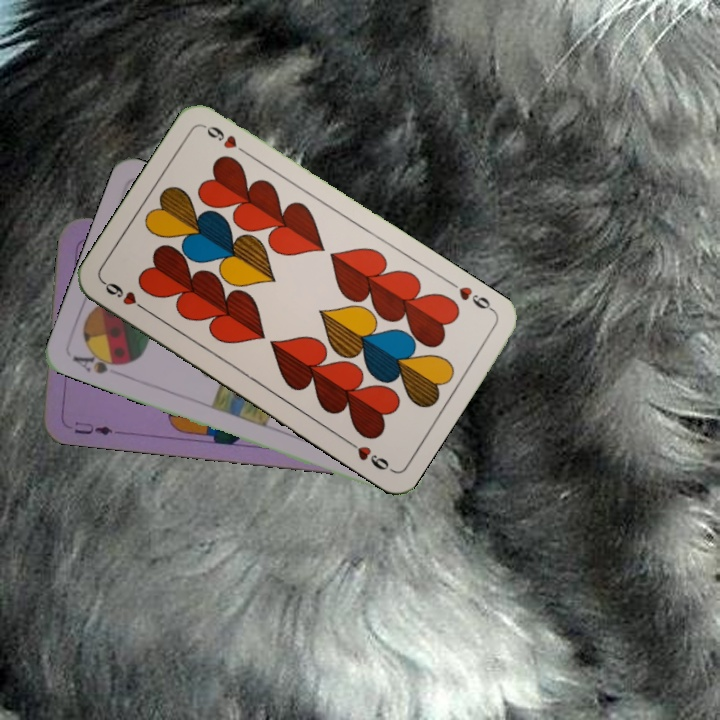EU: (70, 417, 121, 439)
H9: (99, 277, 152, 315), (455, 282, 498, 315)
SA: (68, 346, 129, 377)
